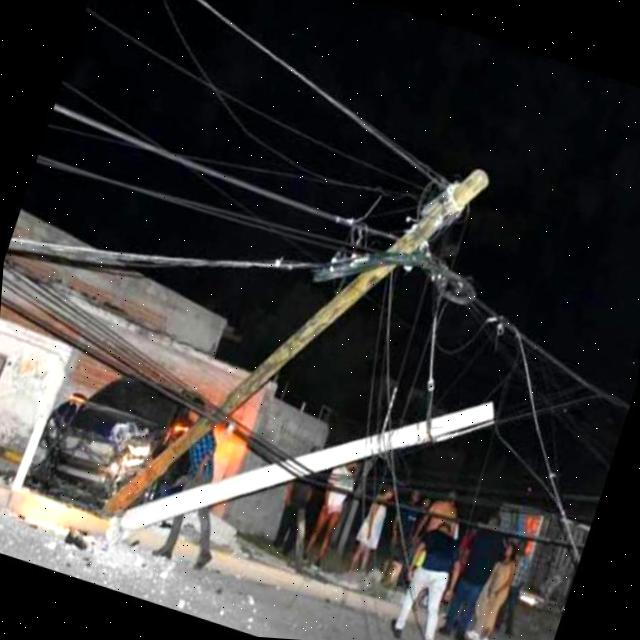Broken Pole: (102, 167, 489, 512), (120, 398, 495, 531)
